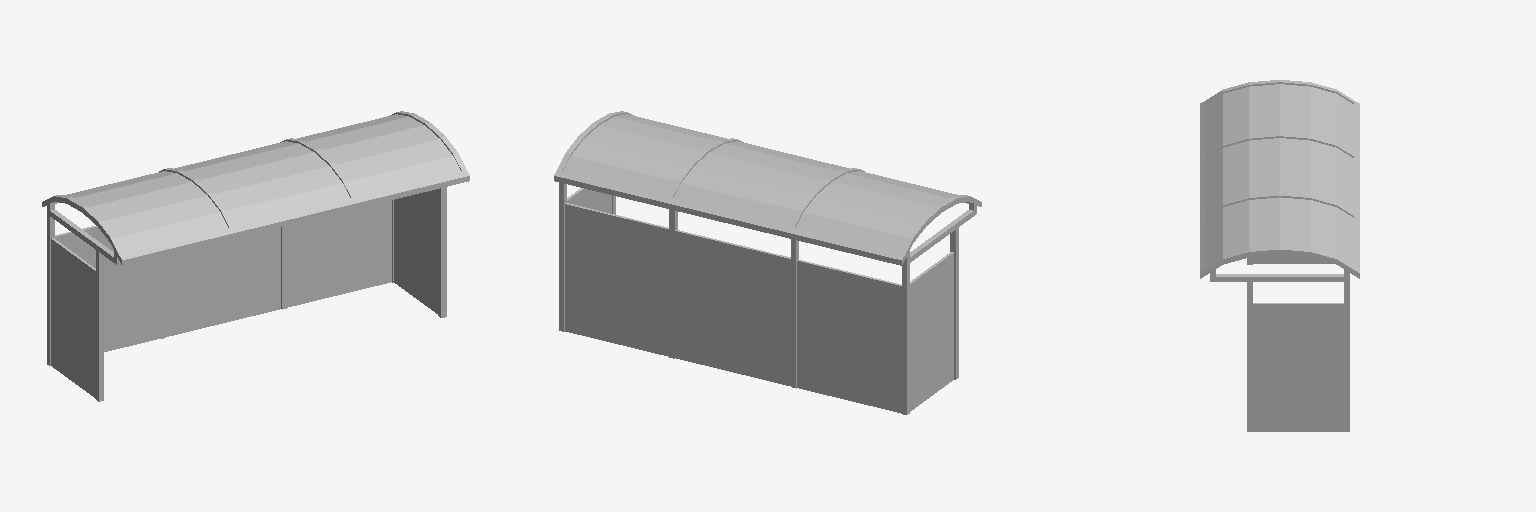
File: SPW_Urban_Props_Bus Stop.obj
3 views of the same model, side by side, from view 1: azimuth 30°, elevation 25°; view 2: azimuth 150°, elevation 25°; view 3: azimuth 270°, elevation 25° (orthographic).
Visible parts, largest first — view 1: SPW_Urban_Props_Bus_Stop; view 2: SPW_Urban_Props_Bus_Stop; view 3: SPW_Urban_Props_Bus_Stop.
Boxes of the visible parts, box(x1,y1,x2,y2) form: SPW_Urban_Props_Bus_Stop: box(42, 111, 469, 401); SPW_Urban_Props_Bus_Stop: box(554, 111, 981, 414); SPW_Urban_Props_Bus_Stop: box(1200, 80, 1359, 431).
Size of the model in its own units: 354 by 178 by 142.